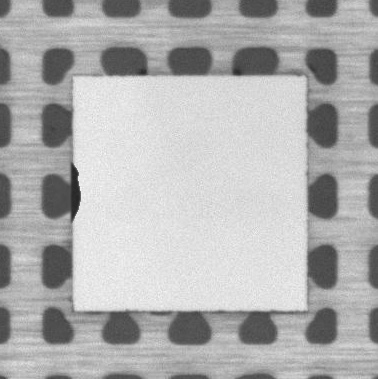DIE_BROKEN: (68, 158, 83, 223)
